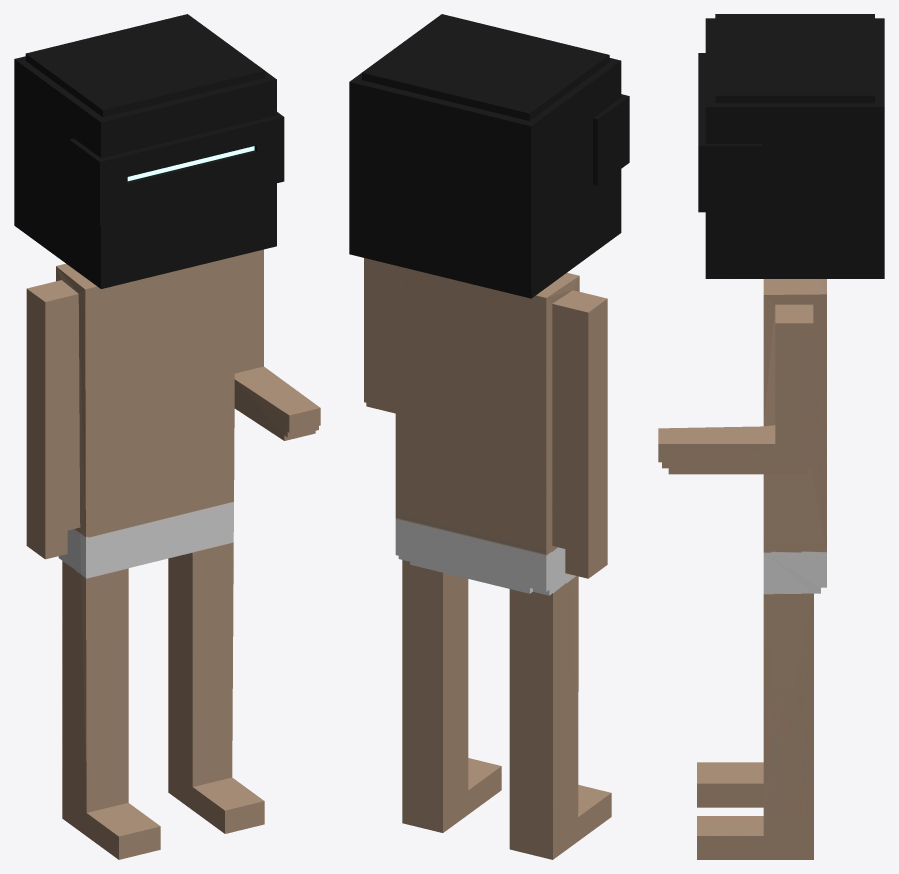
File: punk_helmet.glb
3 renders of one model, left to right at view 1: azimuth 30°, elevation 25°; view 2: azimuth 150°, elevation 25°; view 3: azimuth 270°, elevation 25°, orthographic. The views are drawn at different scales.
Parts seen in each view (by area): view 1: male_light, punk_helmet.001; view 2: male_light, punk_helmet.001; view 3: punk_helmet.001, male_light.
Boxes of the visible parts, box(x1,y1,x2,y2) form: male_light: box(26, 249, 320, 859); punk_helmet.001: box(14, 14, 284, 288); male_light: box(364, 258, 611, 859); punk_helmet.001: box(349, 14, 629, 298); punk_helmet.001: box(698, 14, 884, 278); male_light: box(658, 279, 826, 859).
Bounding box in the file's own units: 3.9 × 12.74 × 3.4.
Materials: 2 (2 with a texture image).
